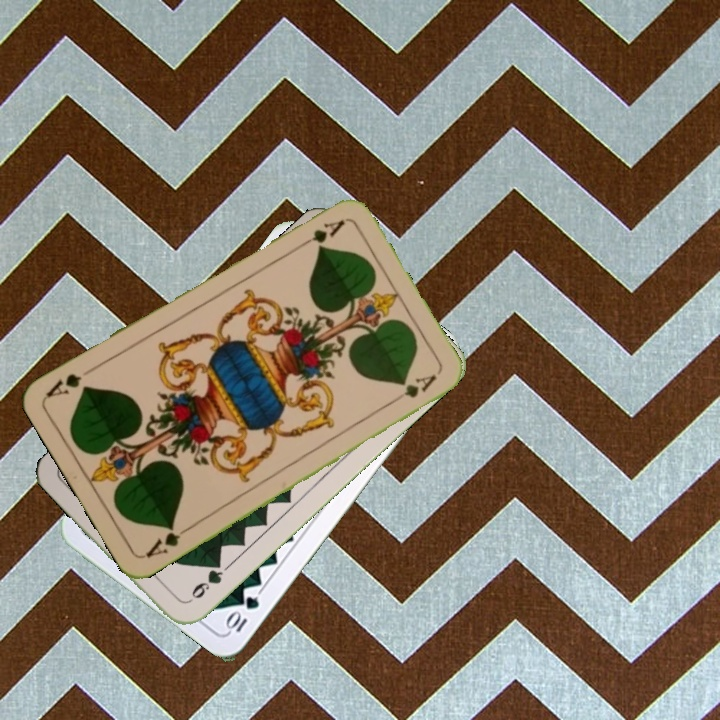G10: (222, 592, 262, 635)
G9: (187, 556, 226, 602)
GA: (141, 521, 194, 561), (293, 216, 348, 252)
